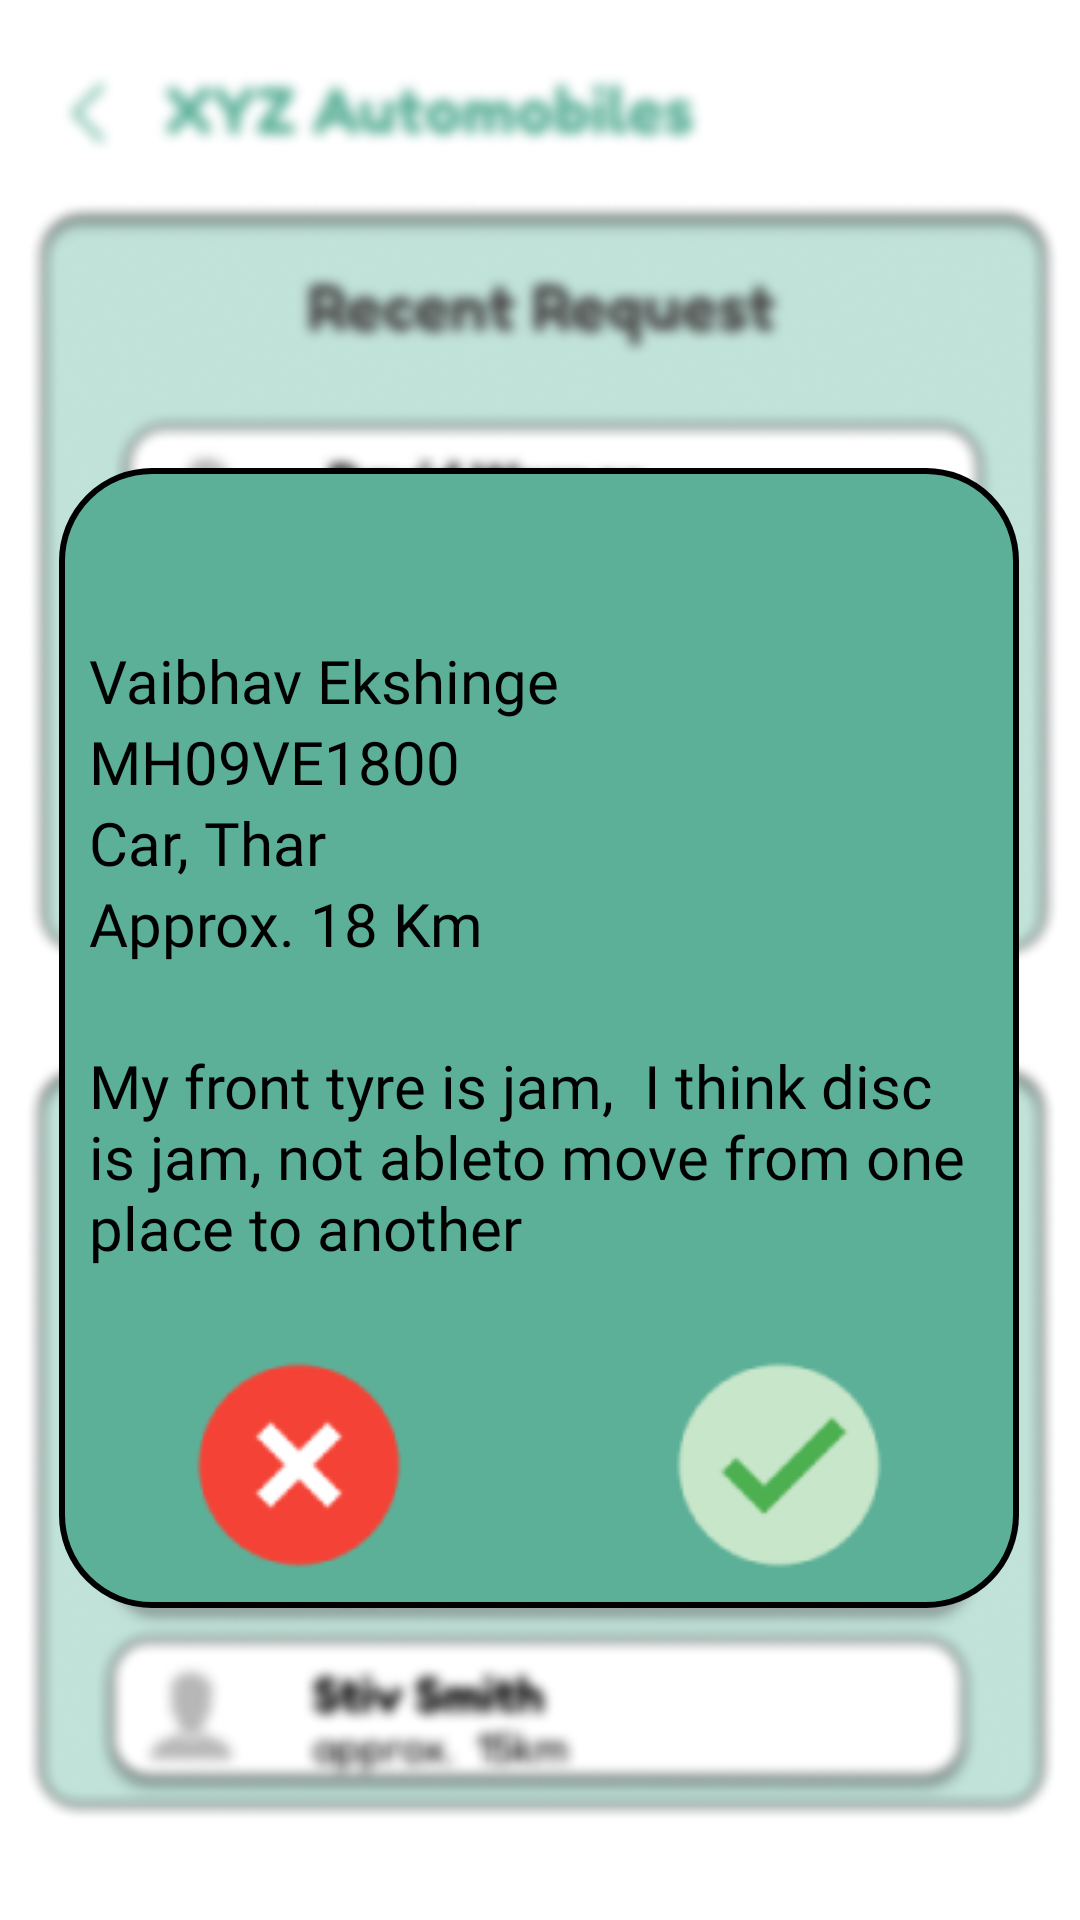

Icon bounding boxes for this 1080px×1920px phone screenshot, format [x1,y1,x2,y2]:
accept: [677,1363,881,1567]
reject: [197,1363,401,1567]
